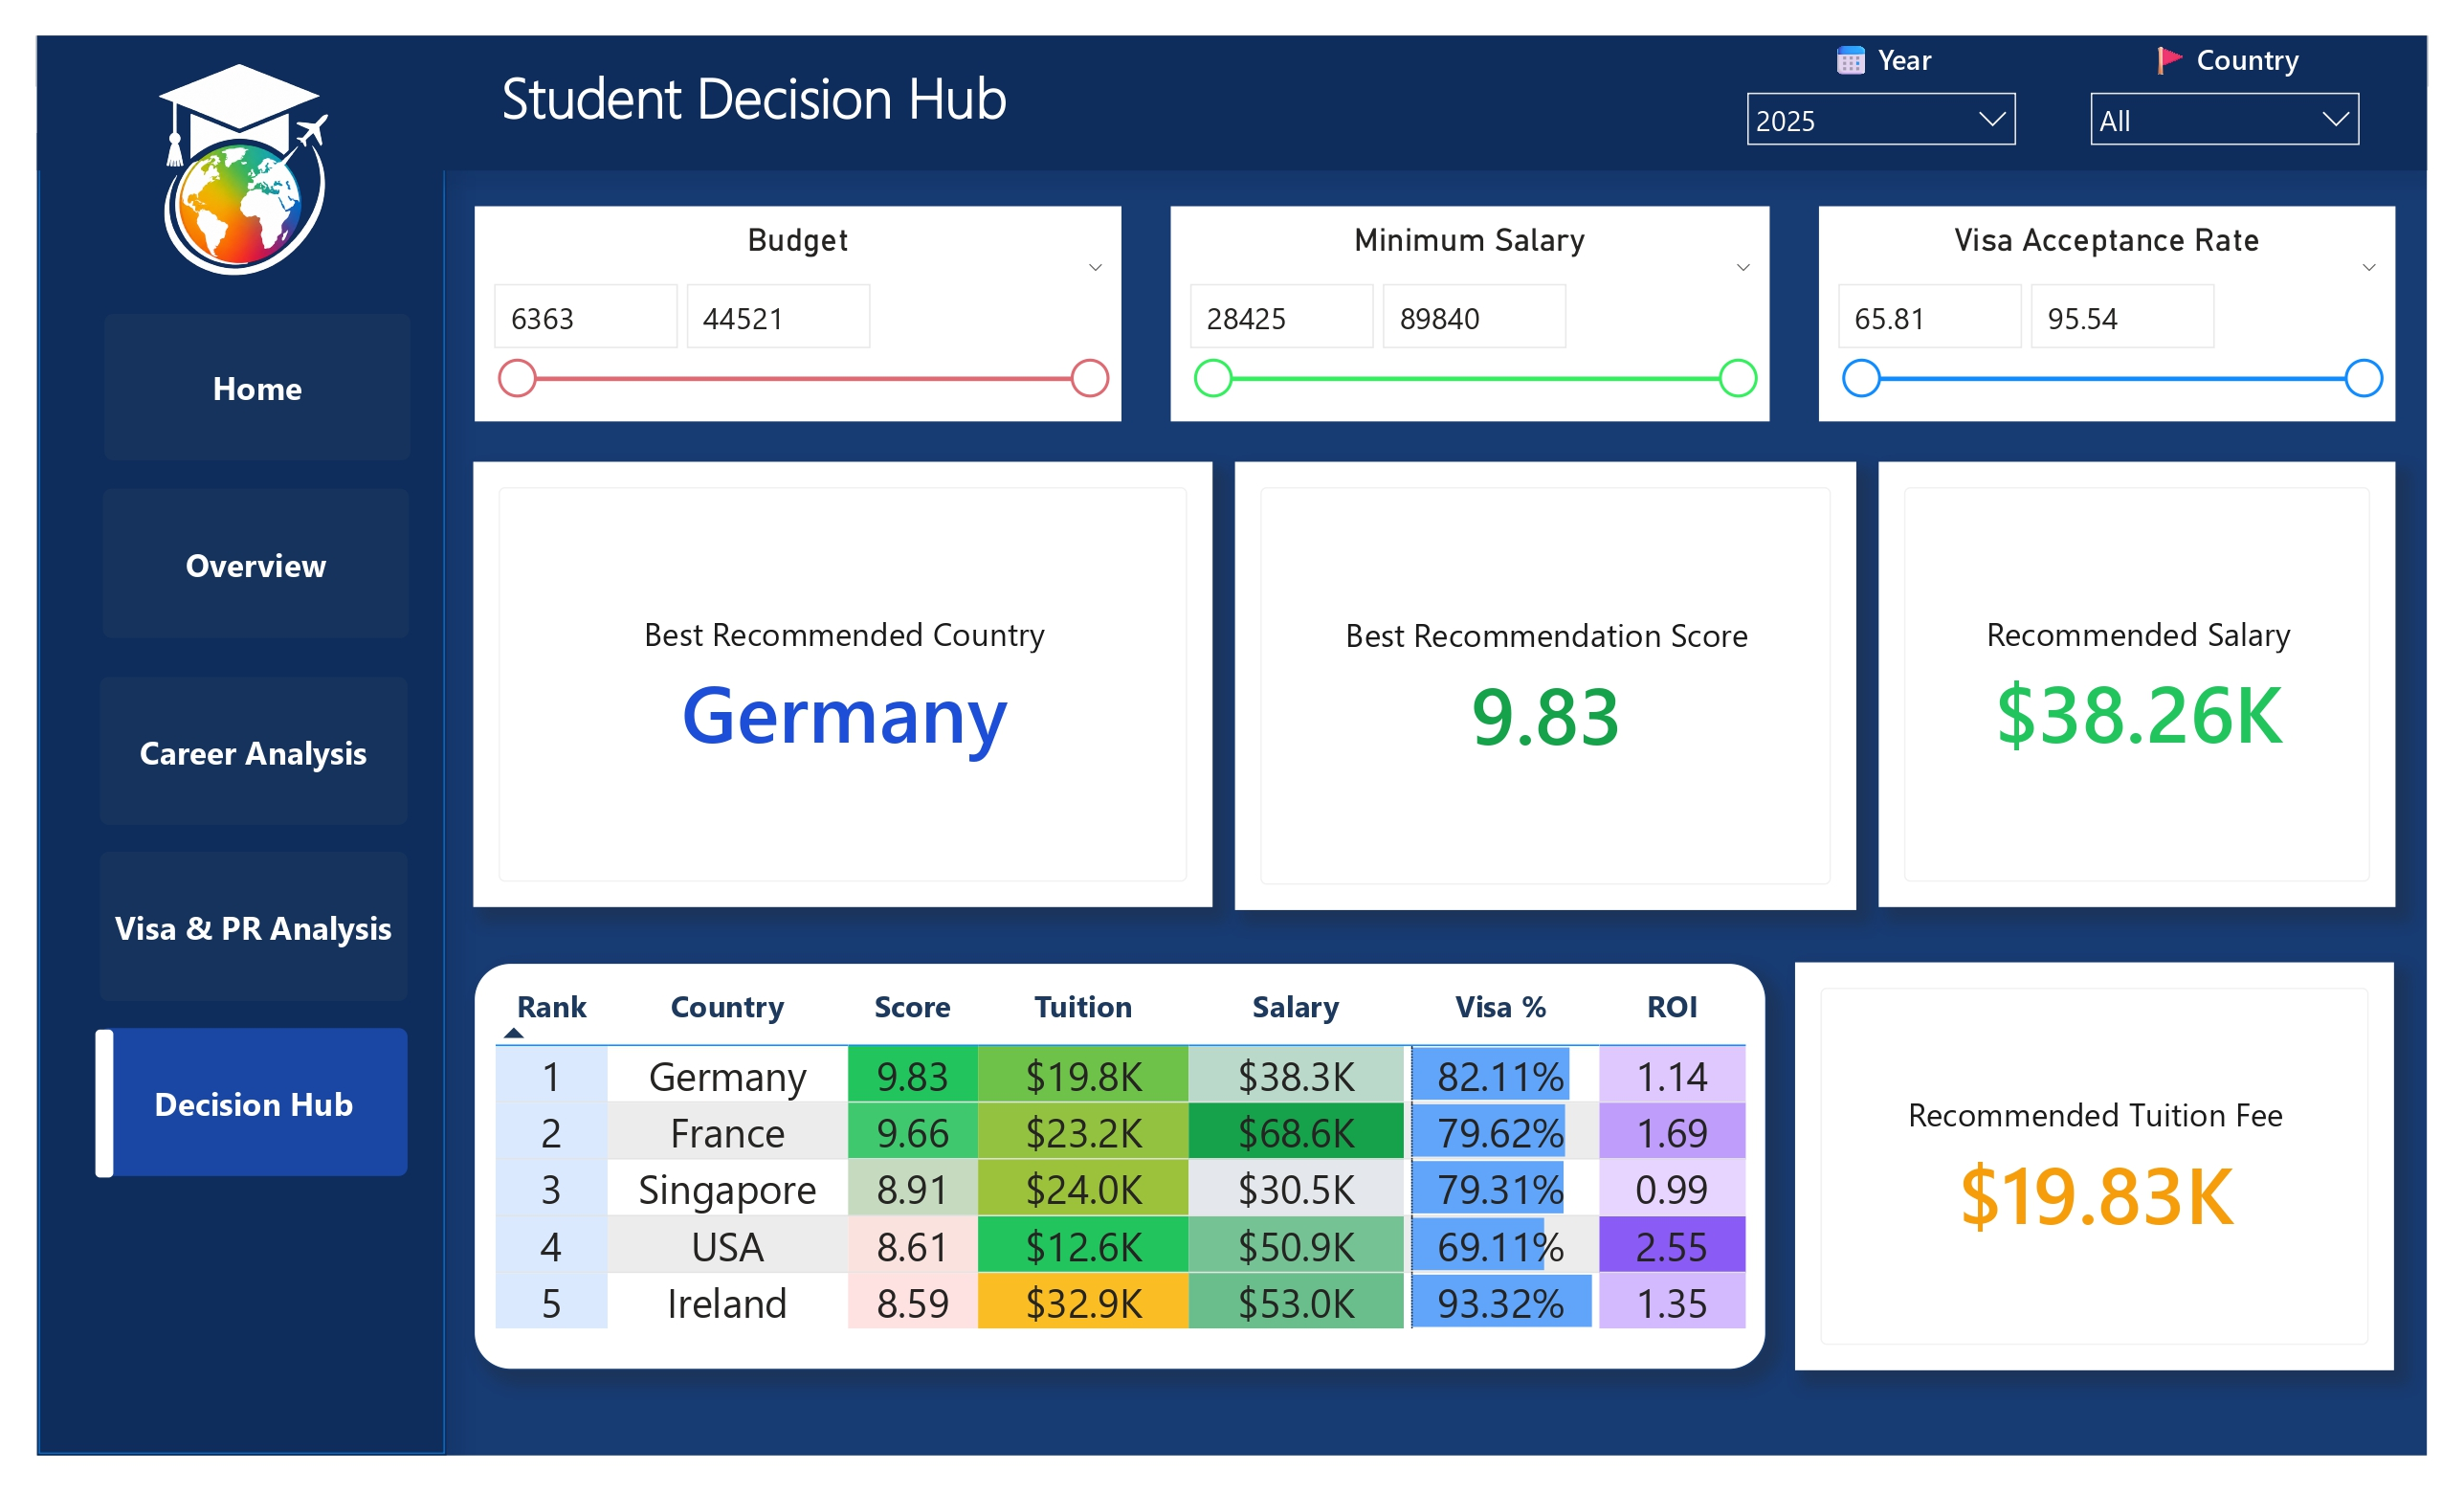

What the dashboard file says about the page in this screenshot:
{"tool":"powerbi","page":{"name":"Student Decision Hub ","canvas":[1600,950],"ordinal":4},"visuals":[{"type":"slicer","title":"Budget","fields":{"Values":["study_abroad_features_latest.Tuition_Fee_USD"]},"box":[292.6,114,433.2,144.4],"z":0},{"type":"actionButton","box":[45,186.4,205,98.3],"z":0,"group":"g2"},{"type":"shape","box":[0,64.6,273.8,885.9],"z":1000,"group":"g1"},{"type":"slicer","title":"Minimum Salary","fields":{"Values":["study_abroad_features_latest.Average_Graduate_Salary_USD"]},"box":[759.1,114,400.9,144.4],"z":1000},{"type":"actionButton","box":[43.4,303.1,205,100],"z":1000,"group":"g2"},{"type":"slicer","title":"Visa Acceptance Rate","fields":{"Values":["study_abroad_features_latest.Visa_Acceptance_Rate"]},"box":[1193.2,114,385.7,144.4],"z":2000},{"type":"actionButton","box":[41.7,428.9,205.7,99.8],"z":2000,"group":"g2"},{"type":"shape","box":[0,0,1600,90.1],"z":3000,"group":"g1"},{"type":"actionButton","box":[41.7,546.4,205.7,99.8],"z":3000,"group":"g2"},{"type":"tableEx","title":"ROI  Score by Country","fields":{"Values":["study_abroad_features_latest.Recommendation Rank","study_abroad_features_latest.Country_Display","study_abroad_features_latest.Recommendation Score","study_abroad_features_latest.Avg Tuition Fee","study_abroad_features_latest.Avg Graduate Salary","study_abroad_features_latest.Avg Visa Acceptance","study_abroad_features_latest.Avg ROI"]},"box":[291.7,620,866.7,273.3],"z":3000},{"type":"group","id":"g1","title":"Complete Nav","box":[0,0,1600,950.5],"z":4000},{"type":"actionButton","box":[41.7,663.9,205.7,99.8],"z":4000,"group":"g2"},{"type":"shape","box":[38.6,665,12.3,98.6],"z":5000},{"type":"cardVisual","fields":{"Data":["study_abroad_features_latest.Best Recommended Country"]},"box":[291.7,285,495,298.3],"z":6000},{"type":"cardVisual","fields":{"Data":["study_abroad_features_latest.Best Recommendation Score"]},"box":[801.8,285,416.1,300.2],"z":7000},{"type":"cardVisual","fields":{"Data":["study_abroad_features_latest.Recommended Tuition Fee"]},"box":[1176.7,620,401.7,273.3],"z":8000},{"type":"cardVisual","fields":{"Data":["study_abroad_features_latest.Best Salary"]},"box":[1233.1,285,345.8,298.3],"z":9000},{"type":"slicer","title":"🚩 Country","fields":{"Values":["study_abroad_features_latest.Country"]},"box":[1365,3.3,200,80],"z":11000,"group":"g1"},{"type":"slicer","title":"📅 Year","fields":{"Values":["study_abroad_features_latest.Year"]},"box":[1135,3.3,200,80],"z":12000,"group":"g1"},{"type":"image","box":[22.8,0,224.2,180.5],"z":13000},{"type":"group","id":"g2","title":"Navigation Buttons","box":[41.7,186.4,208.3,577.3],"z":14000,"group":"g1"},{"type":"textbox","title":"Heading","box":[306.1,10.2,578.1,64.6],"z":14500,"group":"g1"}]}

Visuals, with their boxes on the page's 1600x950 design canvas (x1, y1, x2, y2). These are canvas units, not pixel positions in the 2464x1492 screenshot, which may show the page scaled, cropped or inside an application window:
"Budget" slicer: left=293, top=114, right=726, bottom=258
actionButton: left=45, top=186, right=250, bottom=285
shape: left=0, top=65, right=274, bottom=950
"Minimum Salary" slicer: left=759, top=114, right=1160, bottom=258
actionButton: left=43, top=303, right=248, bottom=403
"Visa Acceptance Rate" slicer: left=1193, top=114, right=1579, bottom=258
actionButton: left=42, top=429, right=247, bottom=529
shape: left=0, top=0, right=1600, bottom=90
actionButton: left=42, top=546, right=247, bottom=646
"ROI  Score by Country" tableEx: left=292, top=620, right=1158, bottom=893
"Complete Nav" group: left=0, top=0, right=1600, bottom=950
actionButton: left=42, top=664, right=247, bottom=764
shape: left=39, top=665, right=51, bottom=764
cardVisual - study_abroad_features_latest.Best Recommended Country: left=292, top=285, right=787, bottom=583
cardVisual - study_abroad_features_latest.Best Recommendation Score: left=802, top=285, right=1218, bottom=585
cardVisual - study_abroad_features_latest.Recommended Tuition Fee: left=1177, top=620, right=1578, bottom=893
cardVisual - study_abroad_features_latest.Best Salary: left=1233, top=285, right=1579, bottom=583
"🚩 Country" slicer: left=1365, top=3, right=1565, bottom=83
"📅 Year" slicer: left=1135, top=3, right=1335, bottom=83
image: left=23, top=0, right=247, bottom=180
"Navigation Buttons" group: left=42, top=186, right=250, bottom=764
"Heading" textbox: left=306, top=10, right=884, bottom=75
